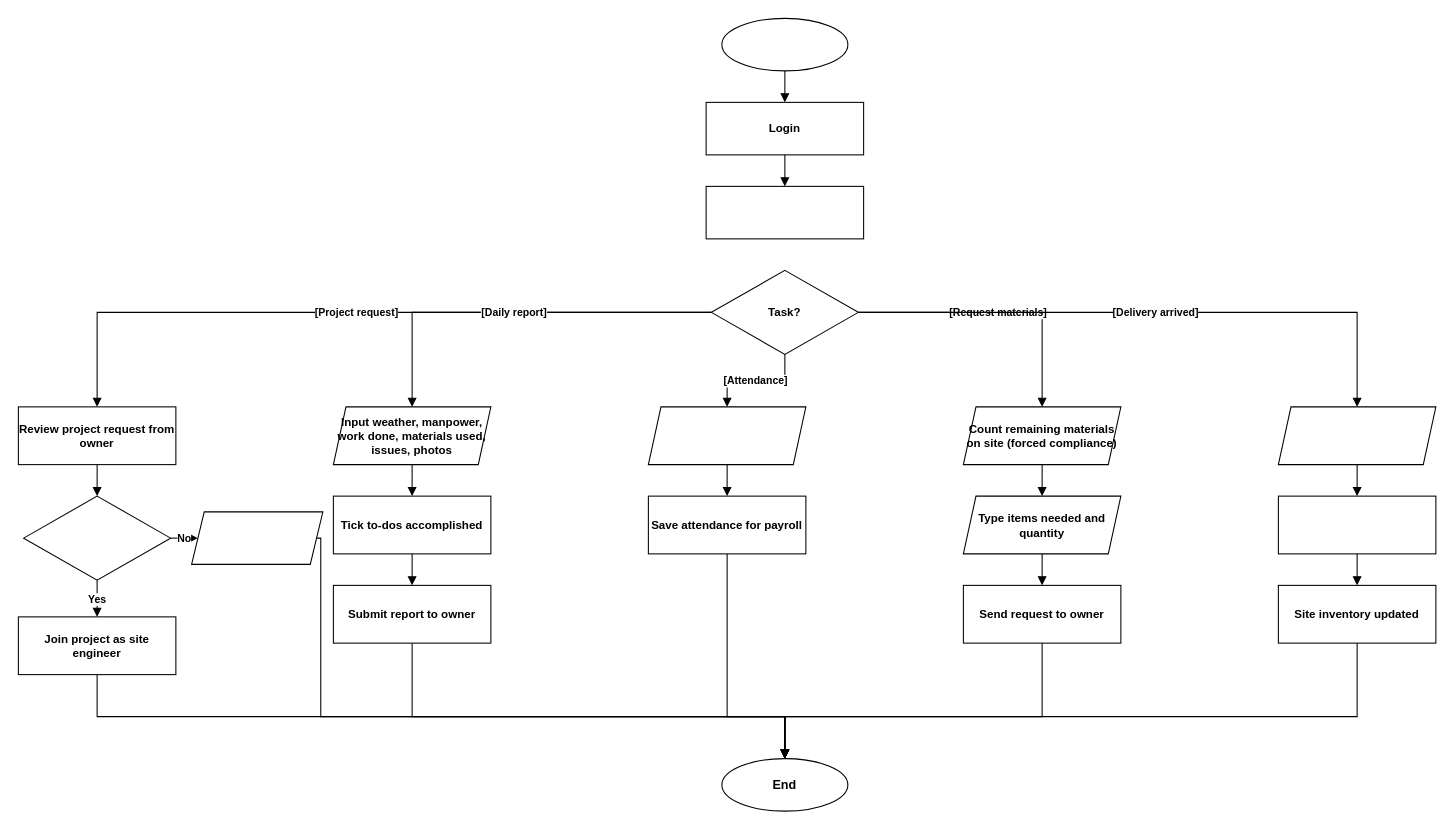
Image size: 1454x829. Some labels were removed from this diagram. Each missing label, with the box of its shape:
Accept?: (23, 495, 171, 580)
Confirm delivery: (1277, 495, 1436, 554)
Input attendance of workers on site: (647, 406, 806, 465)
Input quantity received and damaged: (1277, 406, 1436, 465)
Input reason for declining: (191, 511, 323, 564)
Start: (721, 17, 848, 71)
View My Sites dashboard: (705, 185, 864, 239)
